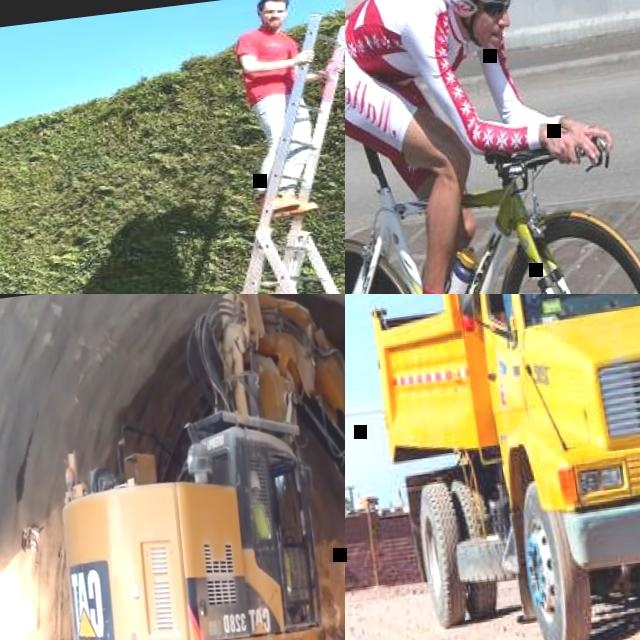Hardhat: (247, 469, 261, 491)
NO-Hardhat: (259, 0, 287, 8)
NO-Mask: (459, 3, 512, 53), (262, 17, 281, 31)
NO-Safety Vest: (345, 0, 465, 80)
Person: (345, 0, 636, 294), (226, 0, 345, 217), (244, 462, 307, 627)
Safety Vest: (250, 498, 273, 541)
machinery: (0, 294, 345, 640), (349, 294, 640, 640)
